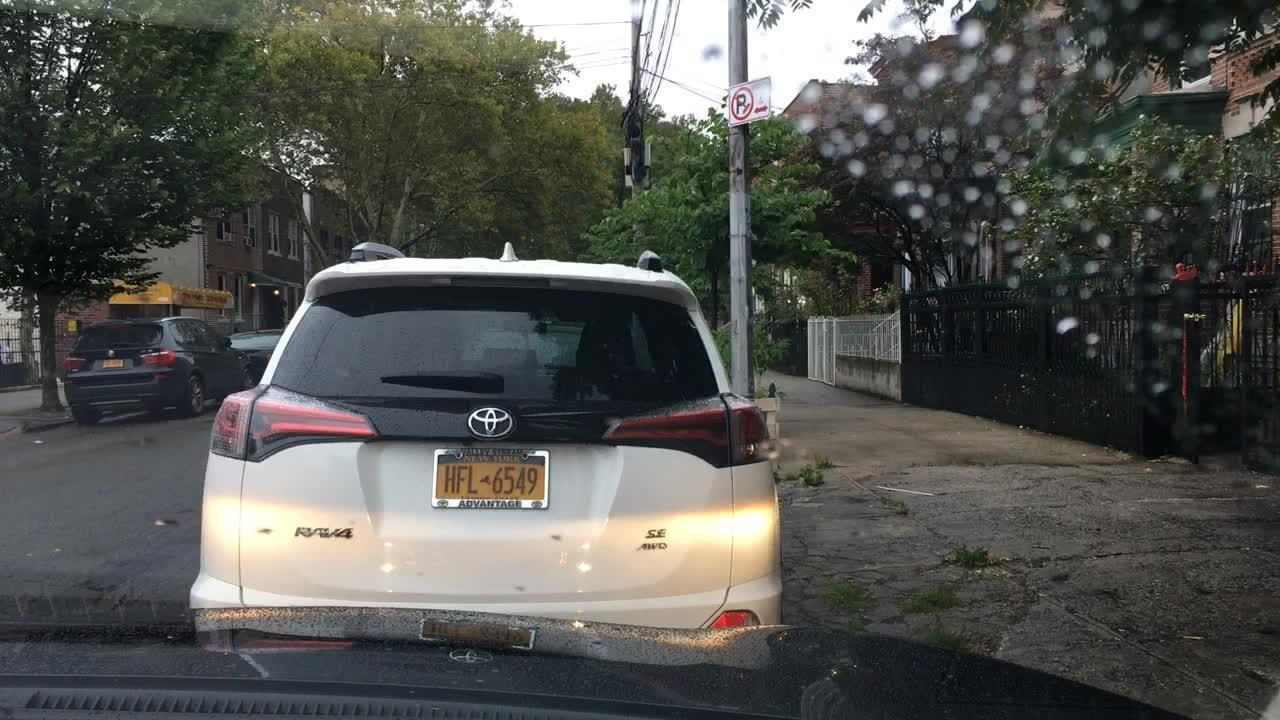Toyota: (464, 402, 515, 440)
bmw: (106, 348, 117, 360)
